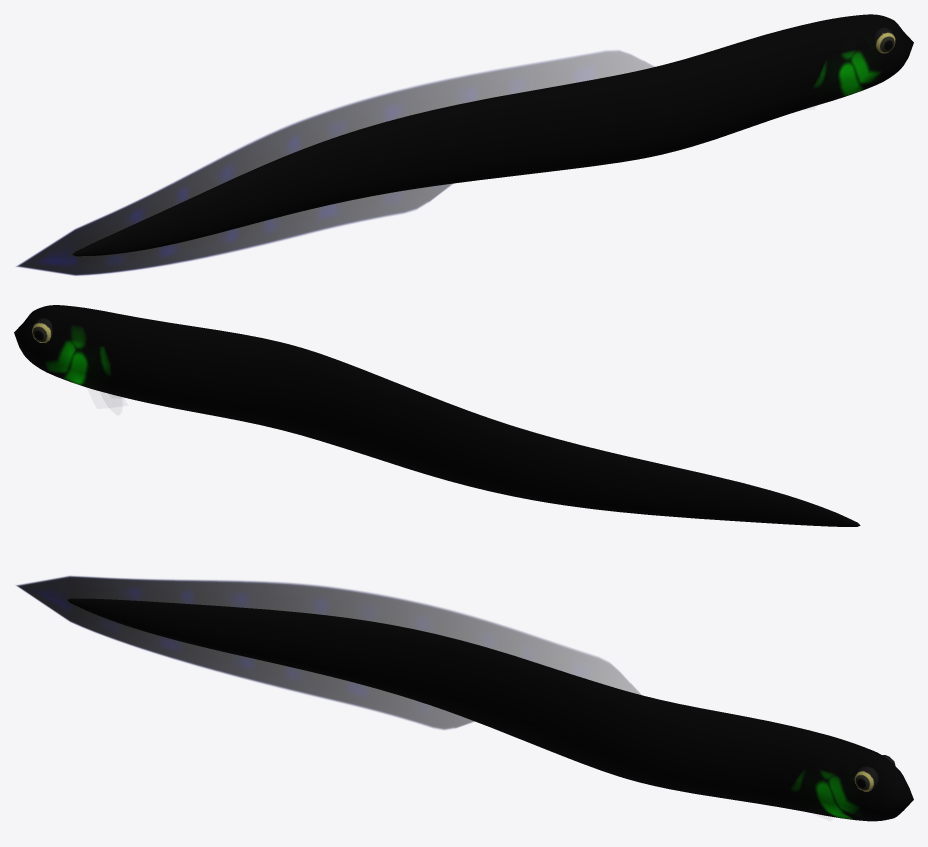
Rendered from engineer_goby_lod1.glb.
3 views of the same model, one above another, from view 1: azimuth 30°, elevation 25°; view 2: azimuth 150°, elevation 25°; view 3: azimuth 330°, elevation 25° (orthographic).
Parts seen in each view (by area): view 1: Body, FinDorsal; view 2: Body; view 3: Body, FinDorsal.
Part boxes in pixels (x1,y1,x2,y2): Body: (72, 14, 913, 256); FinDorsal: (16, 50, 654, 275); Body: (14, 305, 860, 526); Body: (67, 598, 913, 821); FinDorsal: (16, 576, 640, 729).
Bounding box in the file's own units: 1 × 0.1393 × 0.1148.
4 materials, 3 textured.
